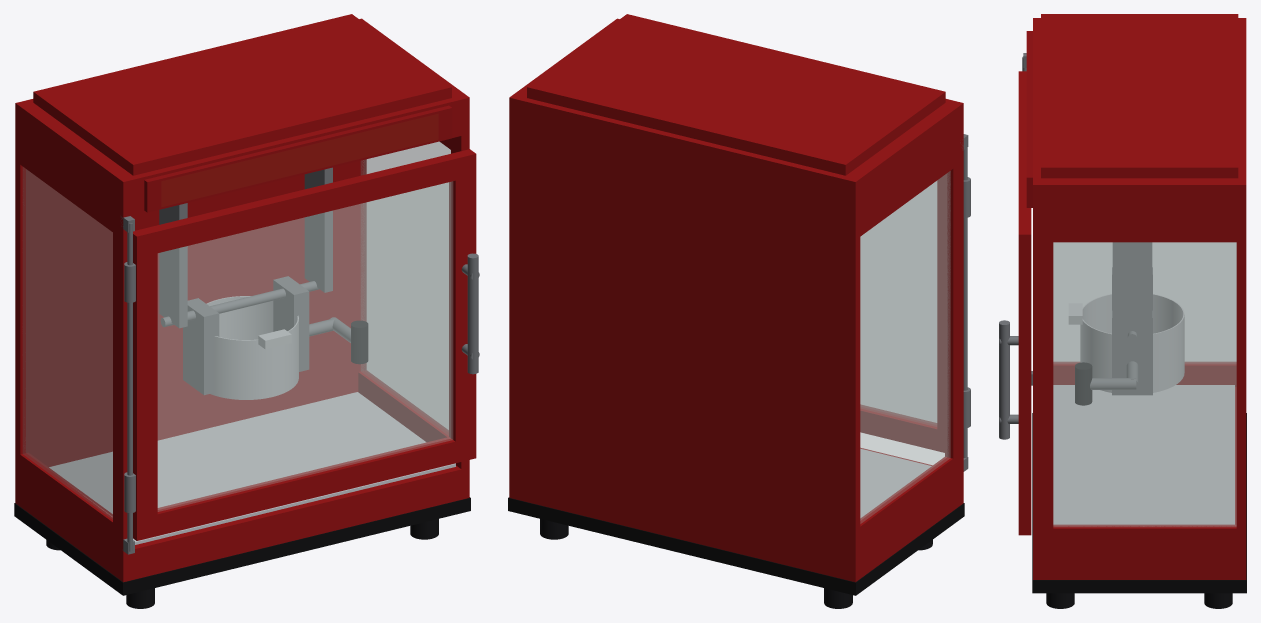
Rendered from popcorn.glb.
3 views of the same model, side by side, from view 1: azimuth 30°, elevation 25°; view 2: azimuth 150°, elevation 25°; view 3: azimuth 270°, elevation 25° (orthographic).
Parts seen in each view (by area): view 1: cabinet, front_door, glass_panels, kettle, feet; view 2: cabinet, glass_panels, front_door, feet; view 3: cabinet, glass_panels, kettle, front_door, feet.
Part boxes in pixels (x1,y1,x2,y2): cabinet: [14, 14, 470, 595]; front_door: [124, 149, 479, 540]; glass_panels: [23, 141, 450, 519]; kettle: [183, 276, 368, 399]; feet: [46, 519, 438, 608]; cabinet: [508, 14, 968, 595]; glass_panels: [860, 171, 950, 523]; front_door: [860, 175, 970, 452]; feet: [540, 519, 932, 608]; cabinet: [1022, 14, 1246, 593]; glass_panels: [1053, 242, 1236, 526]; kettle: [1068, 267, 1184, 405]; front_door: [999, 71, 1031, 535]; feet: [1046, 593, 1232, 608].
Size of the model in its own units: 0.5045 by 0.62 by 0.314.
